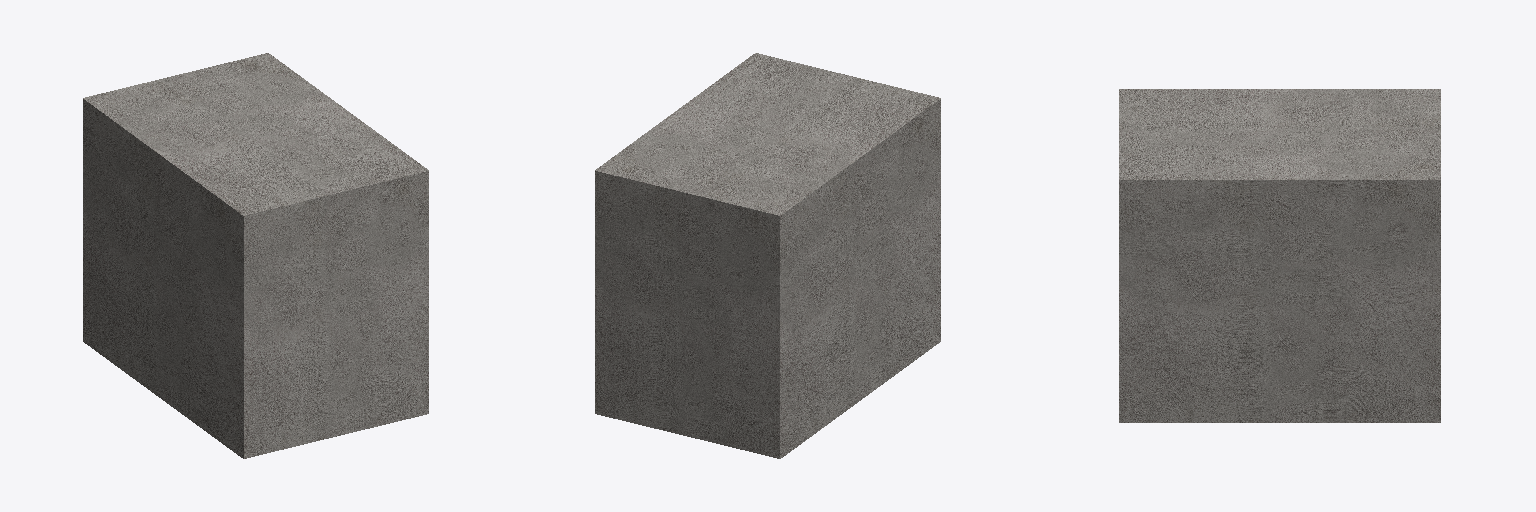
The picture shows the model from 3 angles: view 1: azimuth 30°, elevation 25°; view 2: azimuth 150°, elevation 25°; view 3: azimuth 270°, elevation 25°; orthographic projection.
Visible parts, largest first — view 1: 2x3x2,5; view 2: 2x3x2,5; view 3: 2x3x2,5.
Part boxes in pixels (bbox=[...]): 2x3x2,5: bbox=[83, 53, 428, 458]; 2x3x2,5: bbox=[595, 53, 940, 458]; 2x3x2,5: bbox=[1119, 89, 1440, 422].
Size of the model in its own units: 2 by 2.5 by 3.
1 materials, 1 textured.